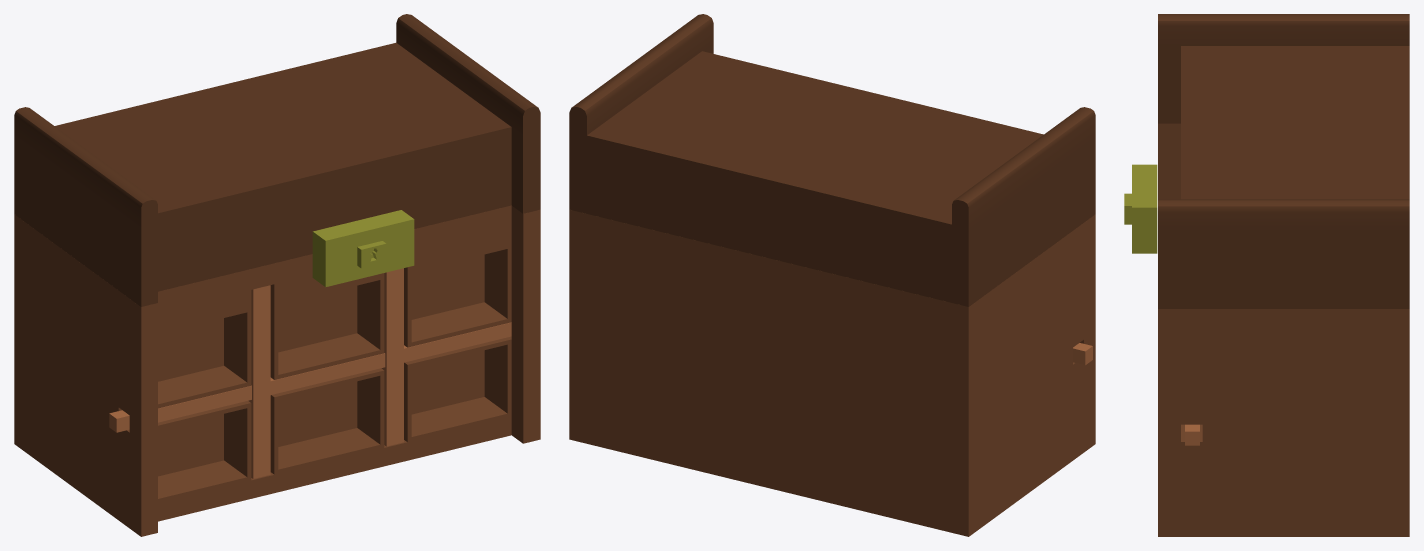
Rendered from Cofre (corregido).fbx.
3 renders of one model, left to right at view 1: azimuth 30°, elevation 25°; view 2: azimuth 150°, elevation 25°; view 3: azimuth 270°, elevation 25°, orthographic.
Parts seen in each view (by area): view 1: Cofre_Body, Tapa, Cerradura, tranca_C, tranca_A, tranca_B; view 2: Cofre_Body, Tapa; view 3: Tapa, Cofre_Body, Cerradura.
Part boxes in pixels (x1,y1,x2,y2): Cofre_Body: (14, 205, 540, 536); Tapa: (14, 14, 540, 306); Cerradura: (312, 210, 414, 287); tranca_C: (109, 322, 511, 432); tranca_A: (248, 285, 270, 478); tranca_B: (381, 268, 403, 446); Cofre_Body: (569, 209, 1095, 536); Tapa: (569, 14, 1095, 306); Tapa: (1158, 14, 1409, 308); Cofre_Body: (1158, 123, 1409, 536); Cerradura: (1124, 164, 1157, 253).
Bounding box in the file's own units: 42.07 × 32 × 24.95.
